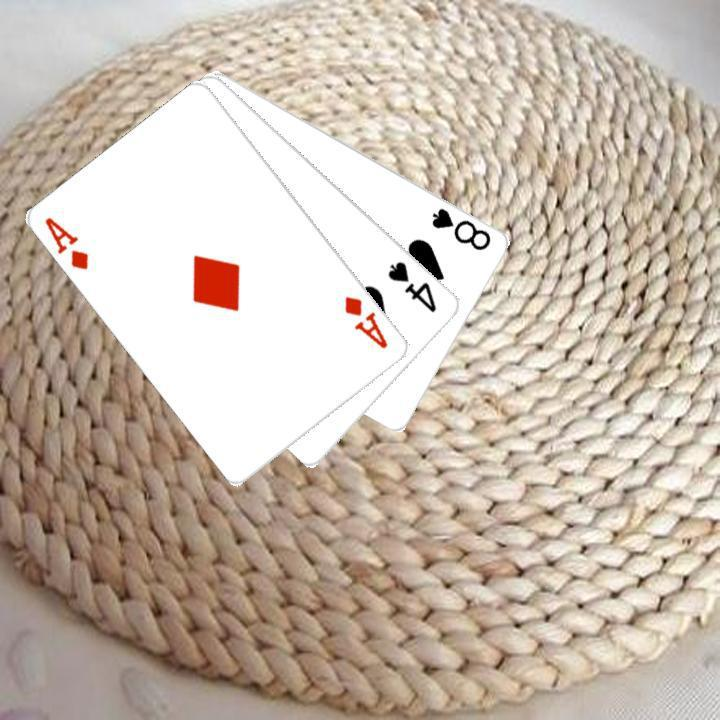4: (384, 257, 439, 314)
8: (427, 203, 494, 253)
A: (340, 291, 391, 351), (41, 213, 92, 272)
